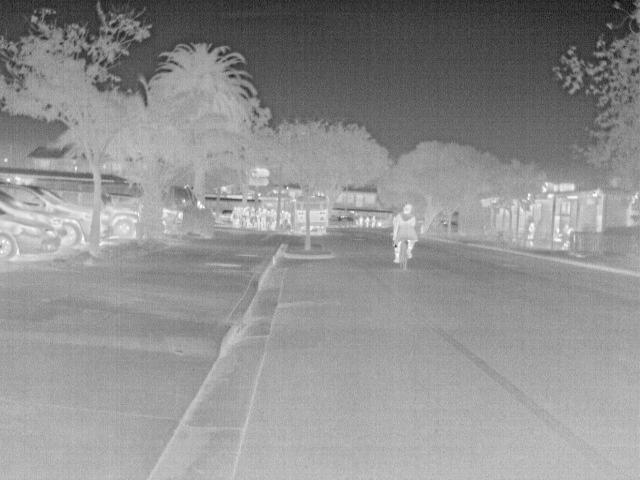car: (1, 183, 94, 249), (4, 208, 60, 263), (103, 204, 140, 240), (160, 206, 187, 234), (220, 207, 236, 224)
person: (390, 200, 420, 264), (527, 220, 539, 246), (551, 226, 564, 241), (371, 212, 378, 229), (365, 215, 372, 227)
